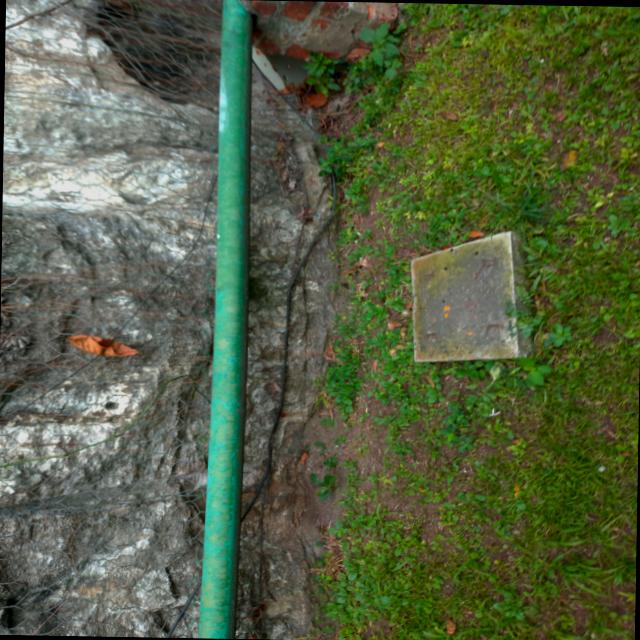gas: (199, 11, 254, 638)
